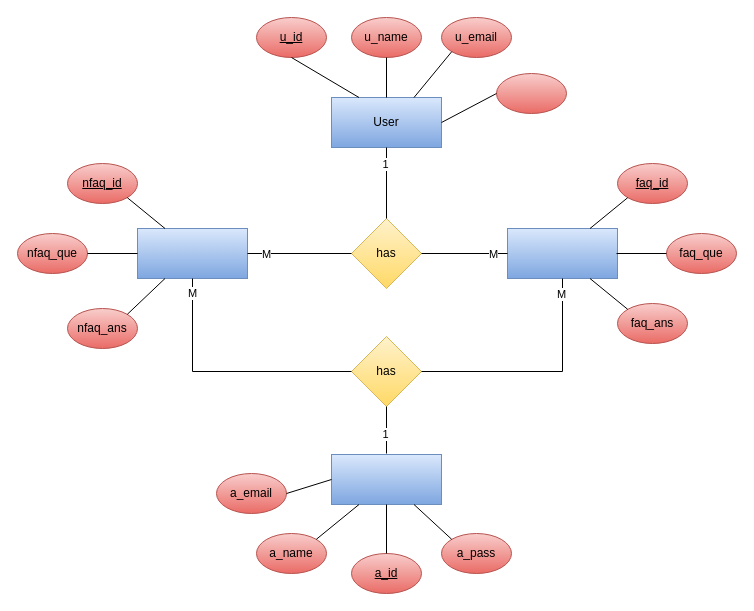
Image size: 754x611. Some labels were removed from this diagram. The centre of each missing label's shape, as x and y in pixels:
"admin" goes at point (386, 479).
"FAQ" goes at point (562, 253).
"Not FAQ resolved" goes at point (192, 253).
"u_pass" goes at point (531, 93).
